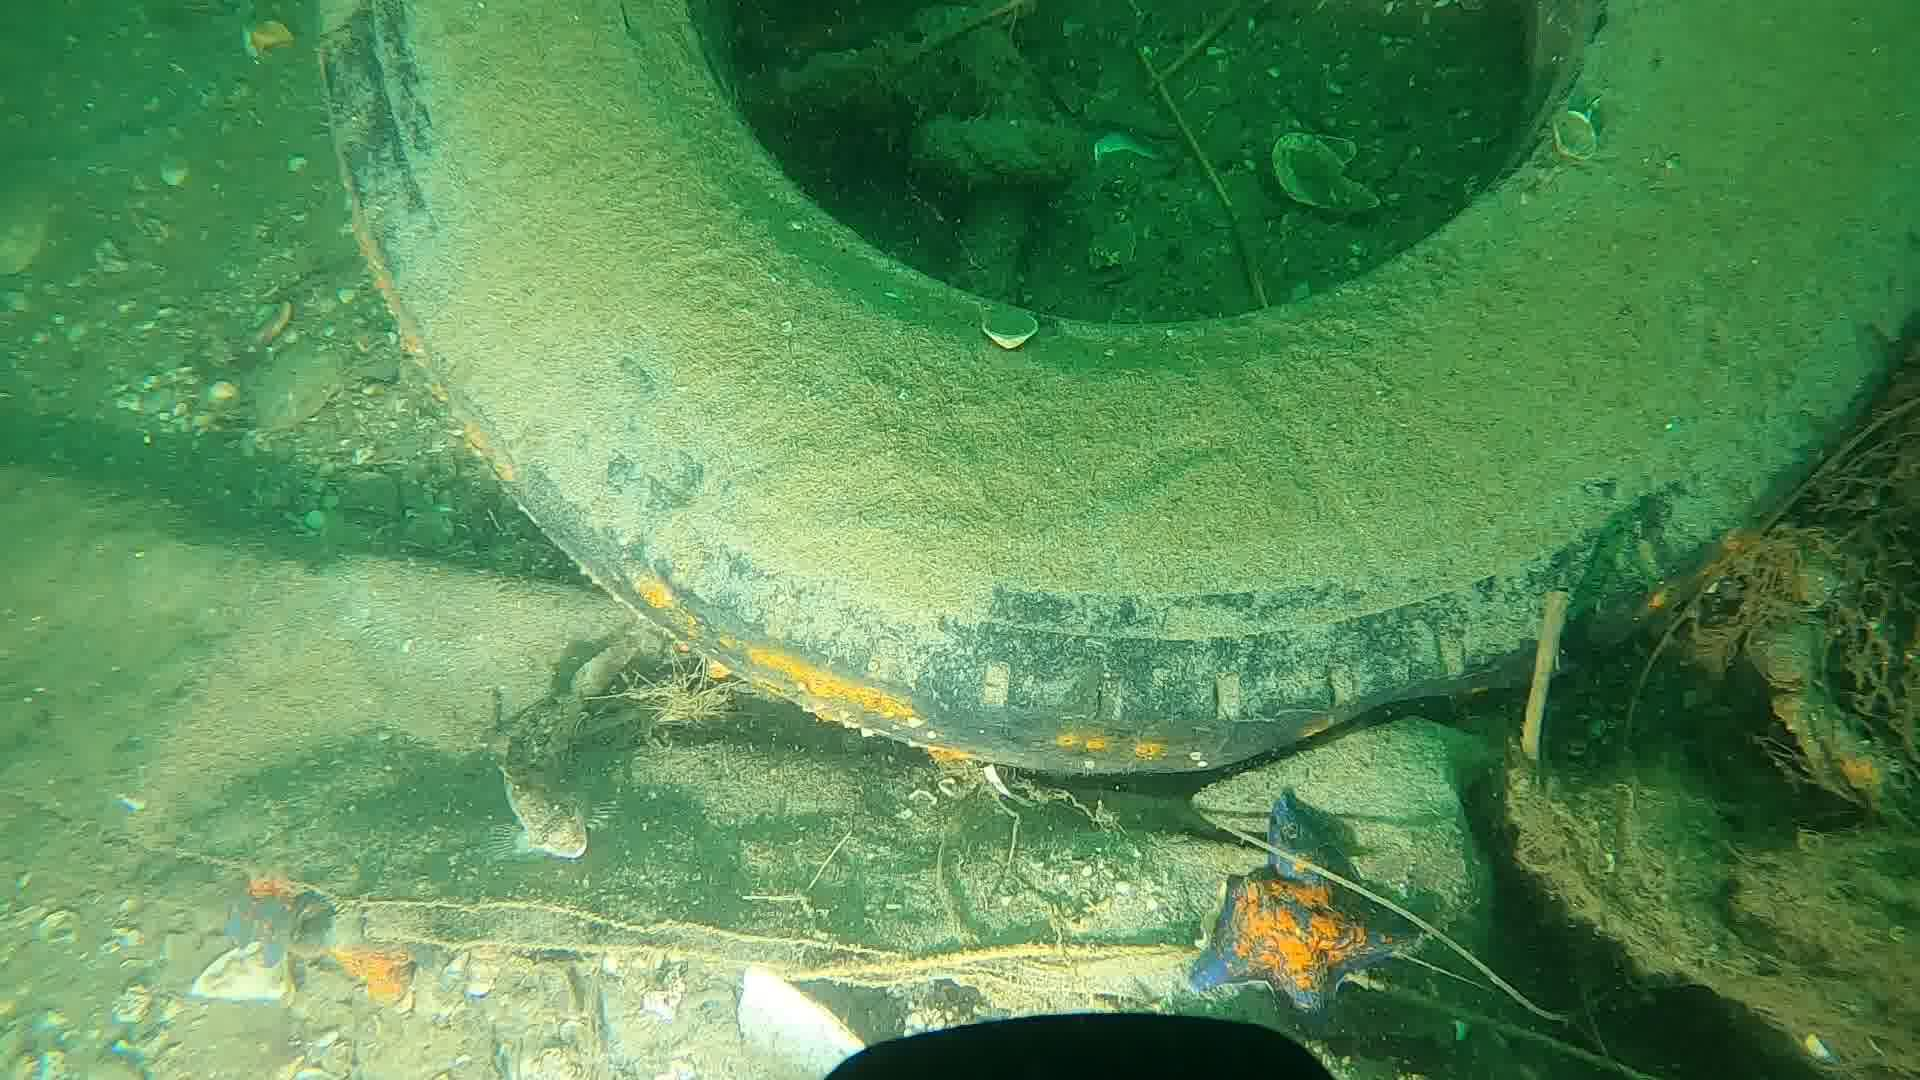fish net: (1844, 578, 1920, 793)
tire: (313, 0, 1920, 771)
